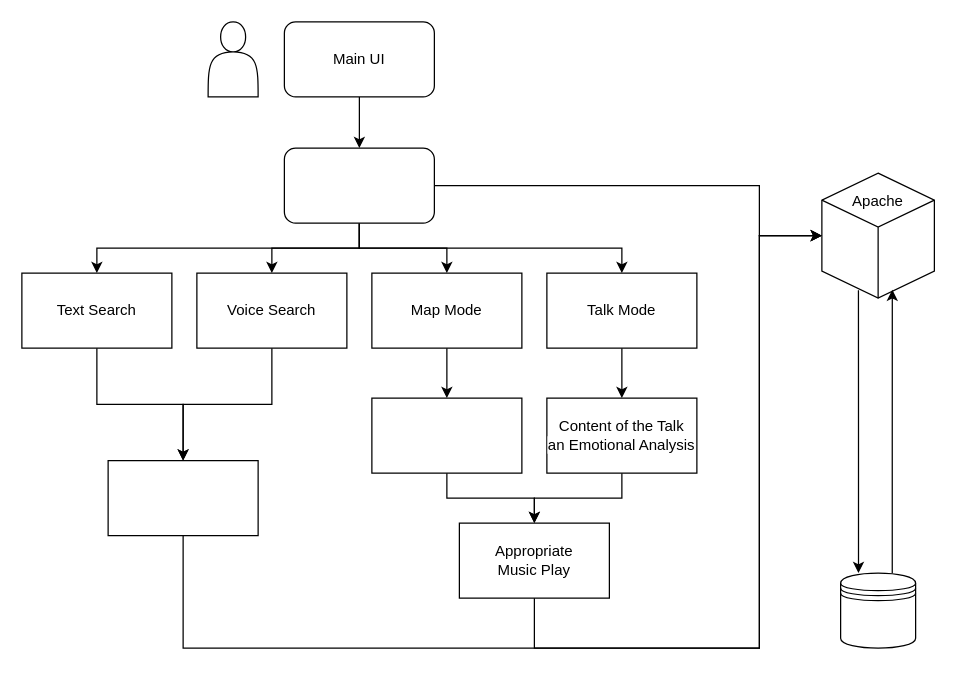
The diagram is 956 pixels wide and 680 high, and some of its shapes have lost their labels. The shapes that lost their labels are listed below. From the top down, each one's centre as x and y in pixels, then its label:
the point at 358,185: Login / SignUP
the point at 446,435: GPS ON and Peripheral Analysis
the point at 182,497: Song / PlayList Search Result
the point at 877,610: Mysql
